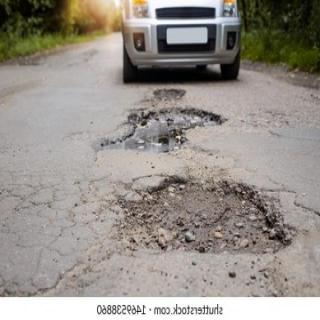pothole: (113, 179, 296, 254), (90, 89, 225, 156)
